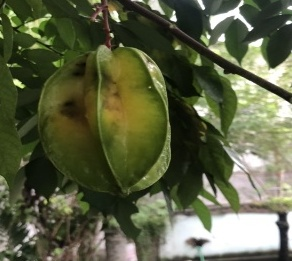Khe: (37, 45, 175, 198)
